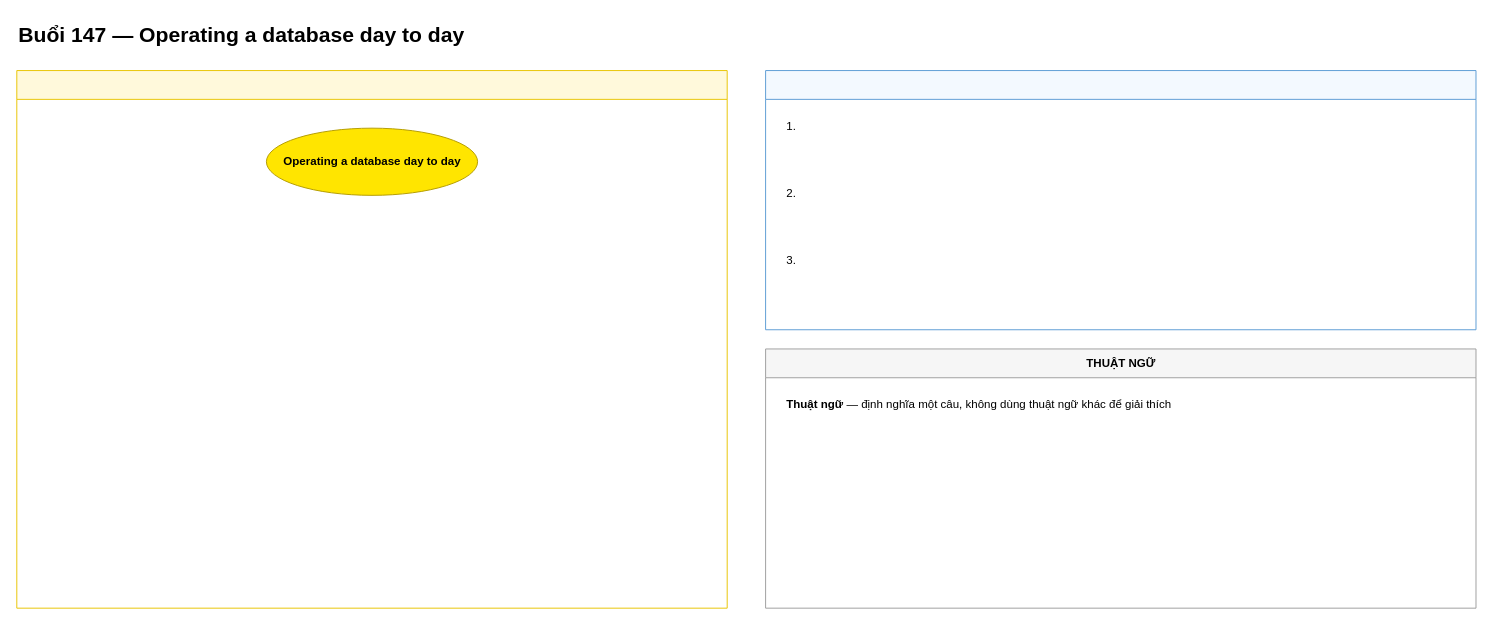
Some shapes in this 1493 by 625 pixel diagram are drawn without their labels. Each missing label, with the box of its shape:
KEY TAKEAWAY — ba điều phải nhớ: (765, 70, 1476, 330)
MINDMAP: (16, 70, 727, 608)
